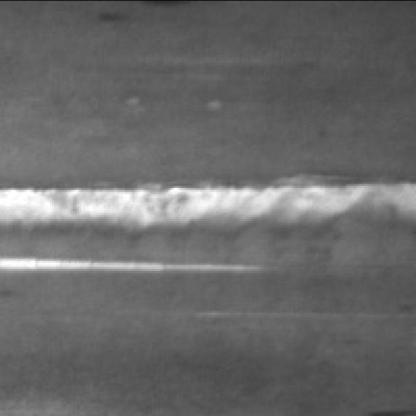scratches: (0, 178, 412, 249), (0, 255, 270, 278)
